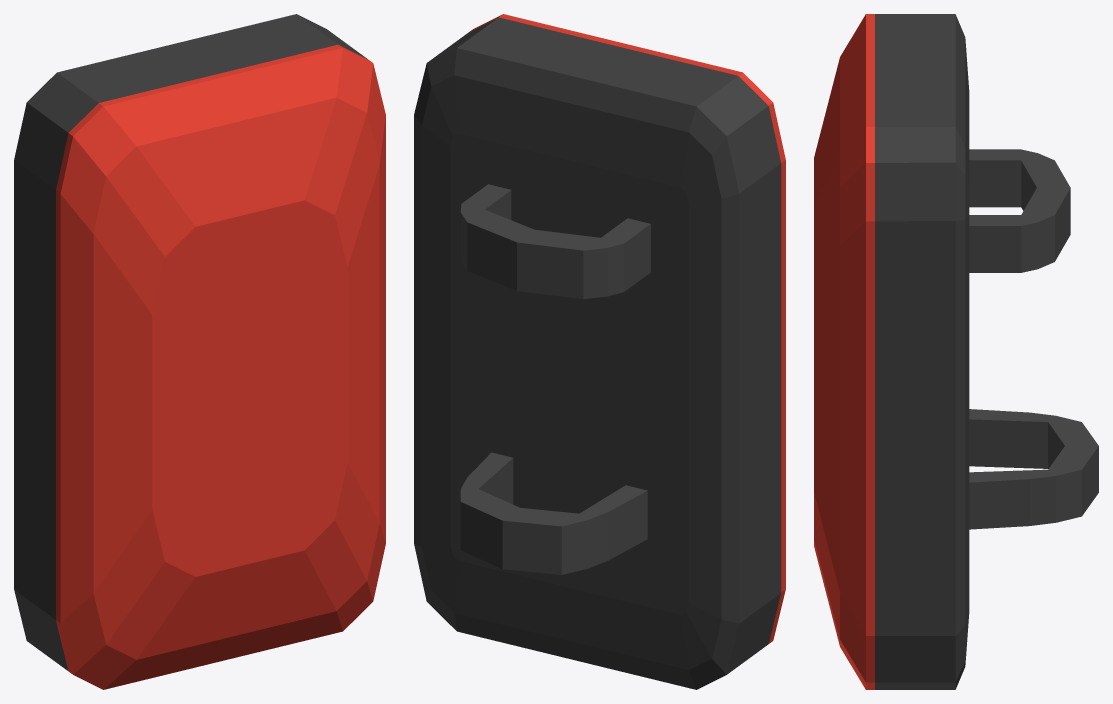
Rendered from Training Arm Pad.fbx.
The picture shows the model from 3 angles, left to right: view 1: azimuth 30°, elevation 25°; view 2: azimuth 150°, elevation 25°; view 3: azimuth 270°, elevation 25°; orthographic projection. The views are drawn at different scales.
Visible parts, largest first — view 1: Training Arm Pad; view 2: Training Arm Pad; view 3: Training Arm Pad.
Part boxes in pixels (bbox=[...]): Training Arm Pad: bbox=[14, 14, 385, 689]; Training Arm Pad: bbox=[414, 14, 785, 689]; Training Arm Pad: bbox=[814, 14, 1098, 689].
Size of the model in its own units: 140 by 240 by 110.
